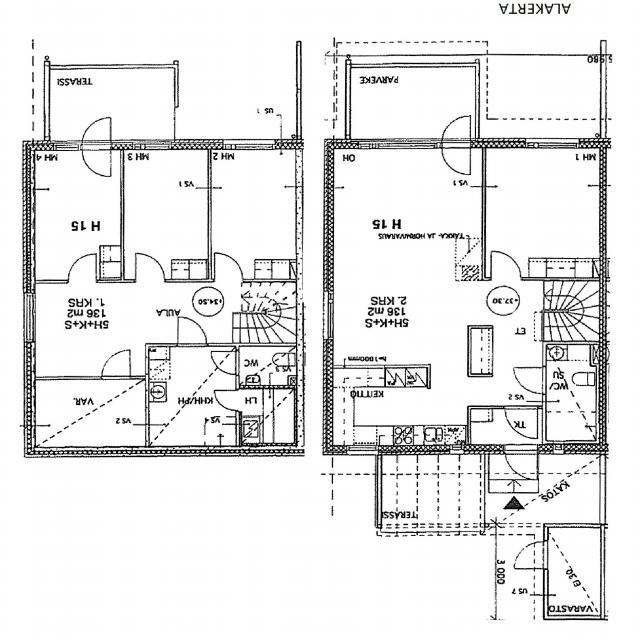door: (466, 251, 510, 292), (505, 446, 538, 486), (82, 112, 111, 150), (82, 139, 111, 177), (441, 112, 470, 150), (441, 139, 470, 177), (505, 406, 537, 440), (514, 542, 548, 569), (214, 252, 243, 283), (101, 349, 130, 380), (136, 251, 164, 283), (514, 367, 546, 394), (68, 252, 96, 282), (178, 316, 206, 346), (210, 351, 240, 375), (213, 390, 242, 411)
